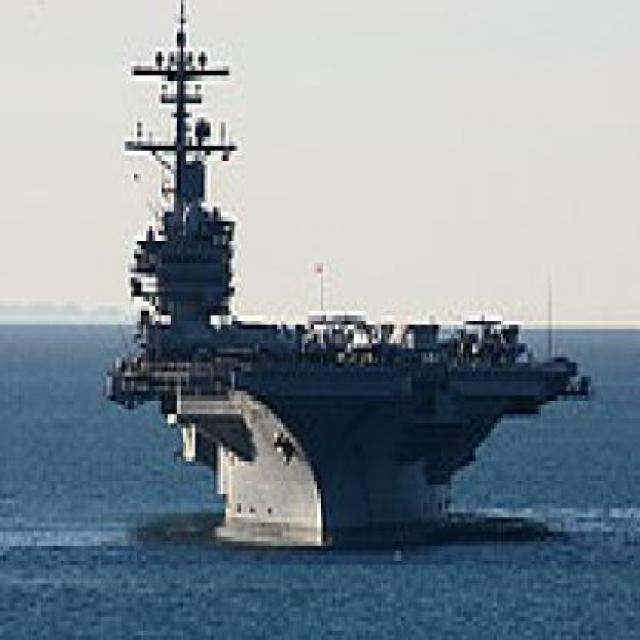warship2: (71, 6, 599, 557)
